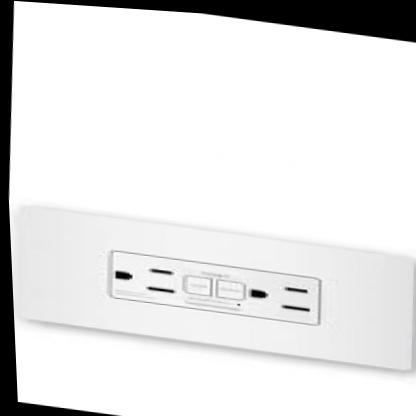OUTLET: (9, 200, 416, 371)
